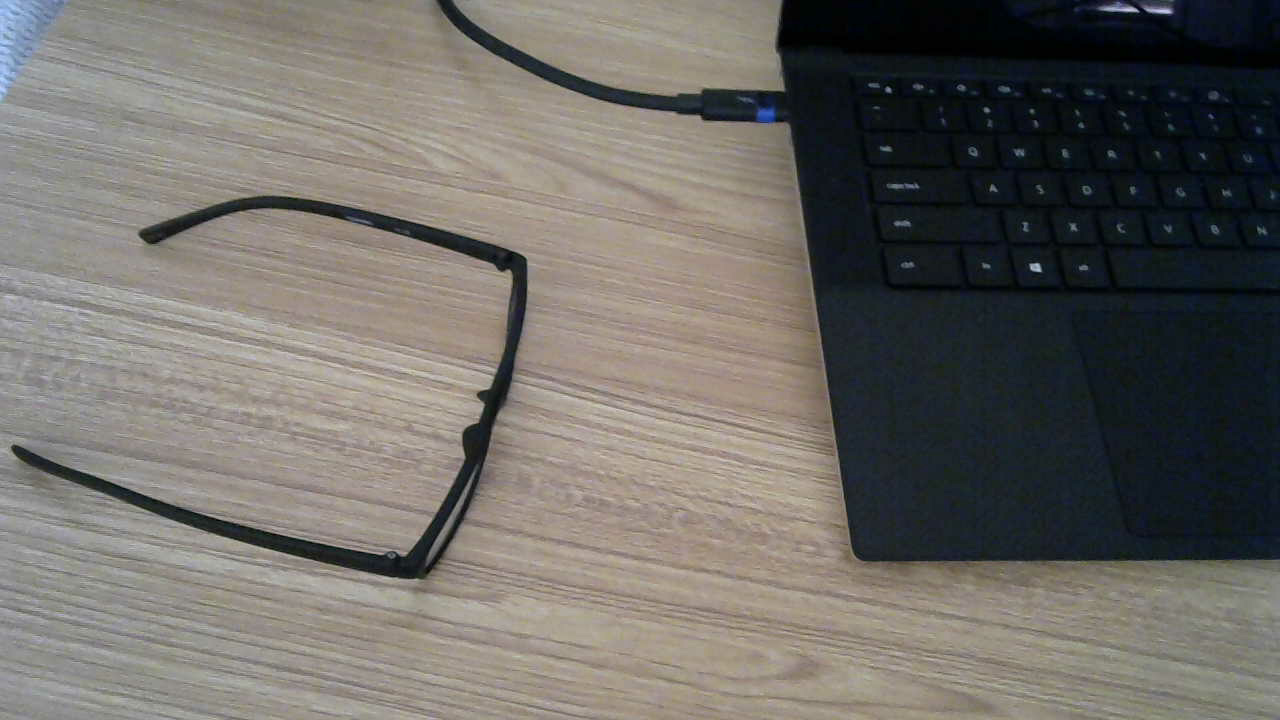Glasses: (64, 166, 538, 620)
